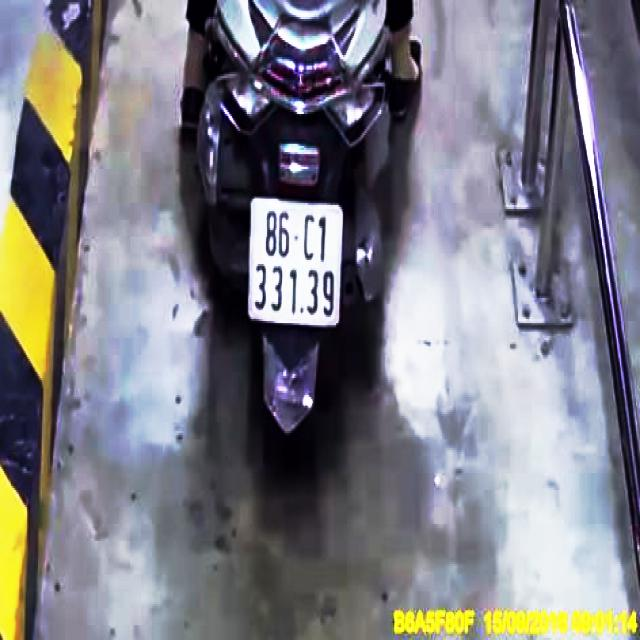license_plate: (247, 193, 345, 330)
